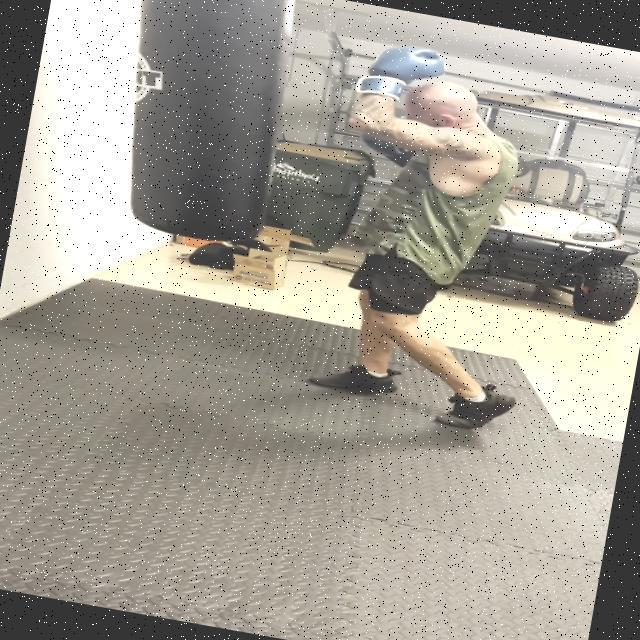bag: (101, 0, 304, 262)
uppercut: (330, 15, 550, 187)
